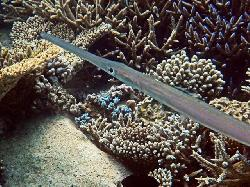Fistularia commersonii: (32, 23, 250, 147)
